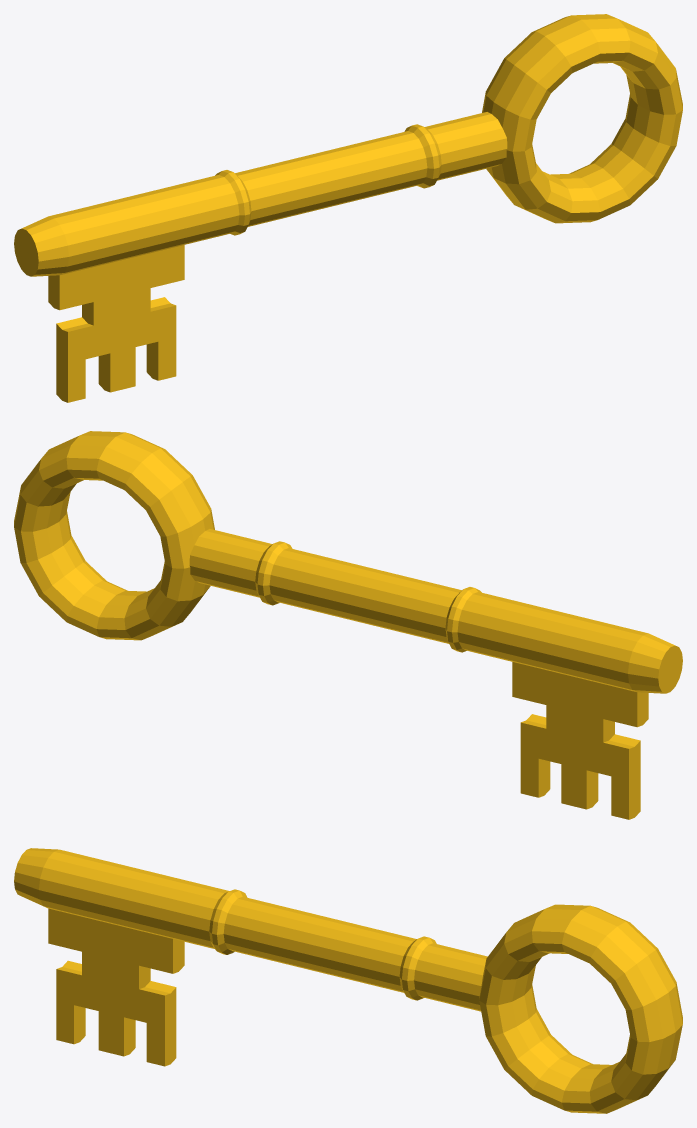
Rendered from Key.fbx.
The picture shows the model from 3 angles, top to bottom: view 1: azimuth 30°, elevation 25°; view 2: azimuth 150°, elevation 25°; view 3: azimuth 330°, elevation 25°; orthographic projection.
Visible parts, largest first — view 1: Cylinder; view 2: Cylinder; view 3: Cylinder.
Part boxes in pixels (x1,y1,x2,y2): Cylinder: [14, 14, 682, 402]; Cylinder: [14, 431, 682, 819]; Cylinder: [14, 848, 682, 1113].
Size of the model in its own units: 102 by 38.29 by 10.54.
